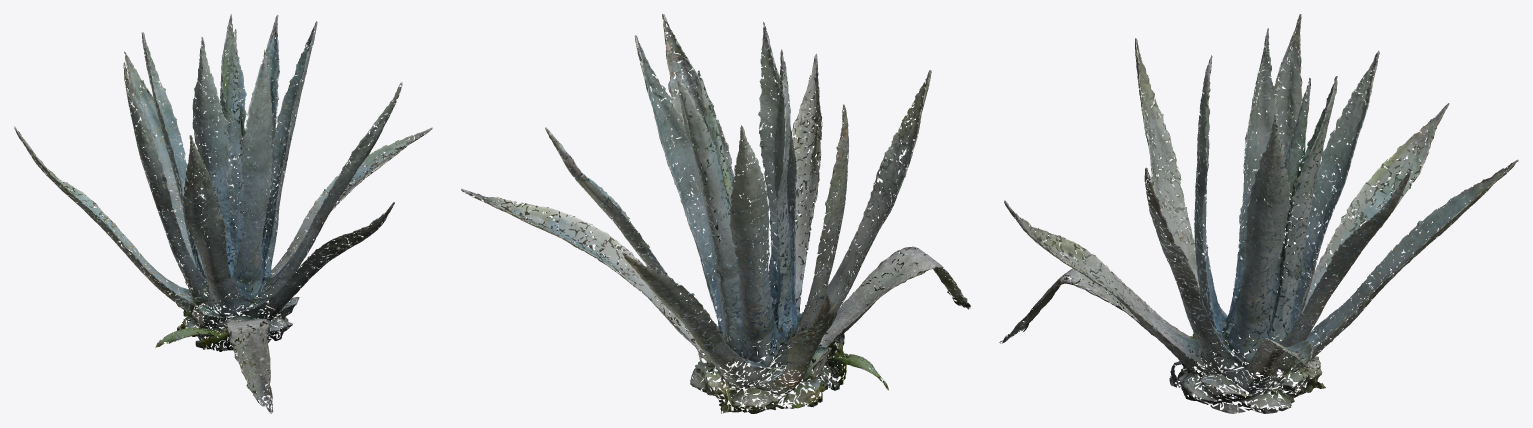
The model's file is aloe-vera-real-v2.glb.
3 views of the same model, side by side, from view 1: azimuth 30°, elevation 25°; view 2: azimuth 150°, elevation 25°; view 3: azimuth 270°, elevation 25° (orthographic). The views are drawn at different scales.
Visible parts, largest first — view 1: Plant_Aloe; view 2: Plant_Aloe; view 3: Plant_Aloe.
Boxes of the visible parts, x1,y1,x2,y2 form: Plant_Aloe: [14, 14, 432, 413]; Plant_Aloe: [461, 14, 970, 413]; Plant_Aloe: [999, 14, 1518, 413].
Size of the model in its own units: 1.28 by 0.9771 by 1.33.
Materials: 1 (1 with a texture image).
